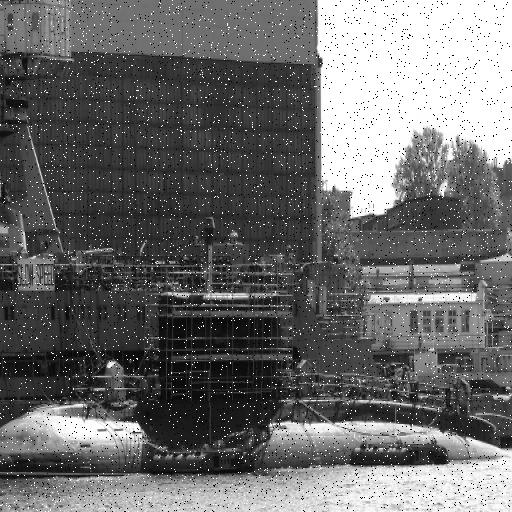submarine: (1, 366, 509, 456)
